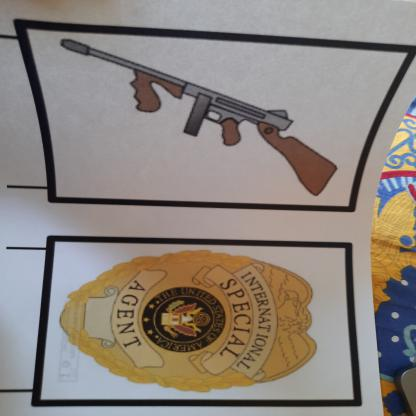Bootlegger: (51, 38, 344, 197)
G-man: (40, 239, 346, 413)
